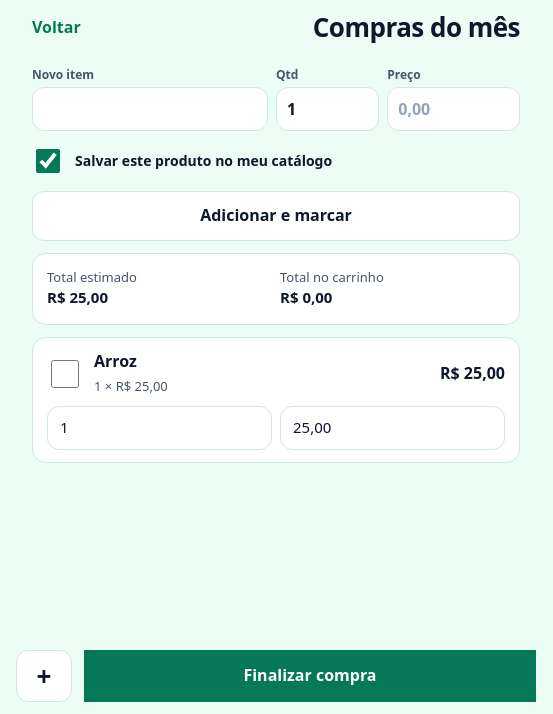
Test: R24 / R25: item rápido no modo compra › adiciona já marcado como adquirido e soma no carrinho
This screenshot has width=553, height=714.
Click the button "+" at (44, 676), box [16,650,72,702]
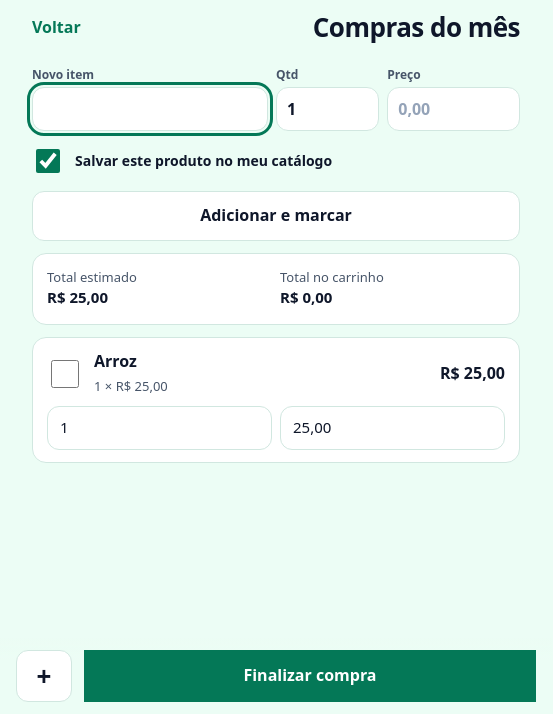
Type "Sabão" into the field labelled "Novo item" at (150, 109), box [32,87,268,131]
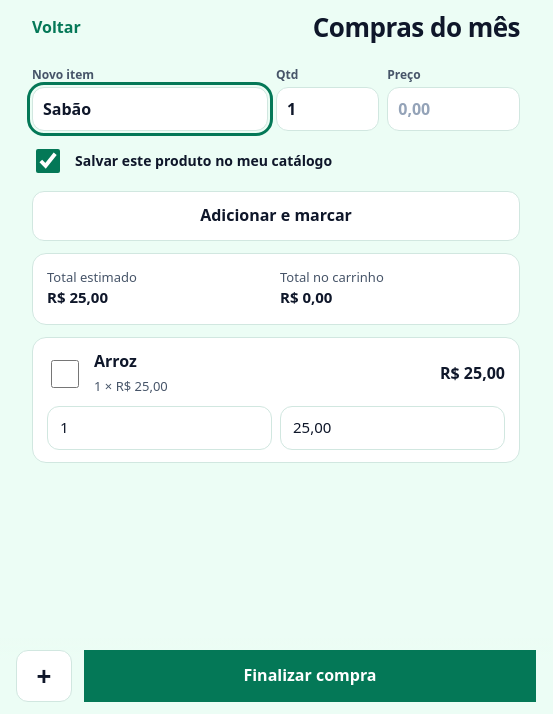
Type "9,99" into the field labelled "Preço" at (454, 109), box [387,87,520,131]
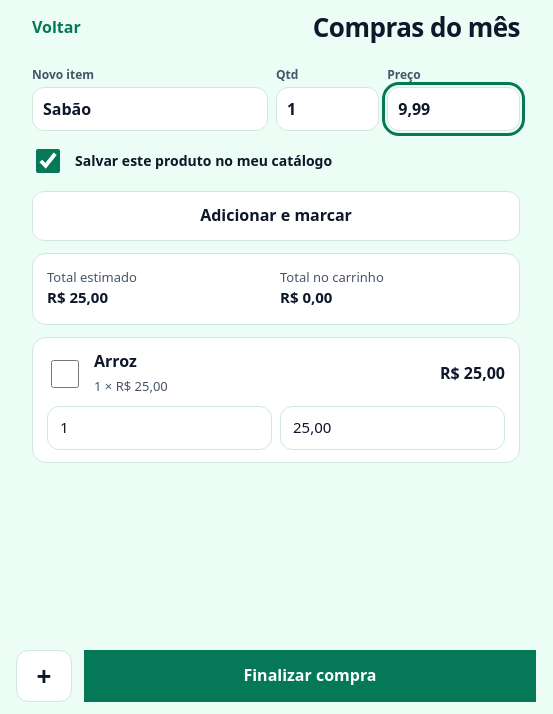
Check: the checkbox labelled "Salvar este produto no meu catálogo" is checked, box [36,149,60,173]
Click the button "Adicionar e marcar" at (276, 216), box [32,191,520,241]
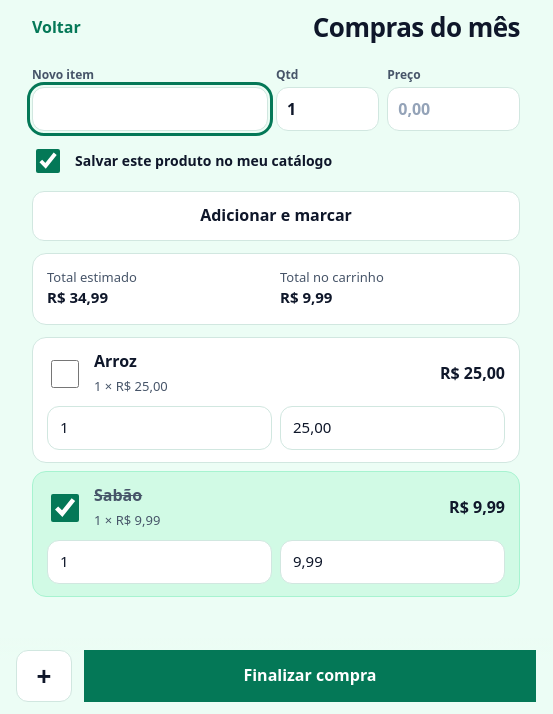
Check: the text "Sabão" is shown, box [94,484,142,506]
Check: the text with test id "no-carrinho" reads "R$ 9,99", box [280,287,332,307]
